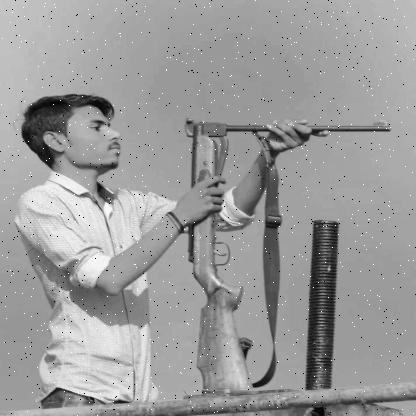rifle: (182, 115, 396, 400)
